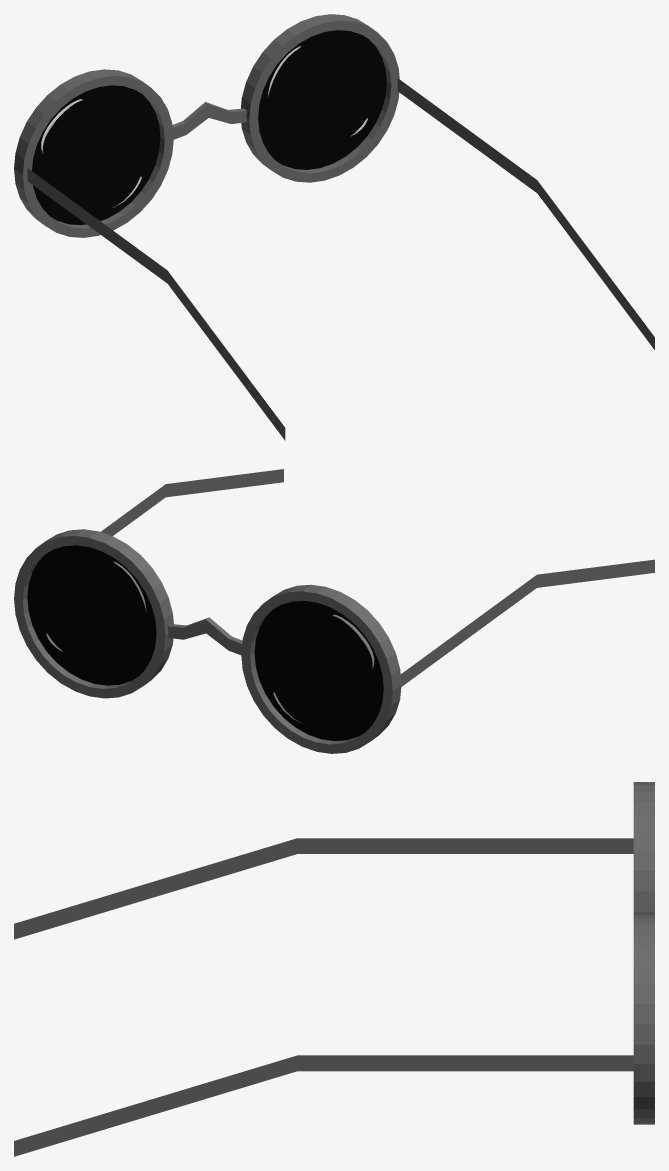
Rendered from glasses.glb.
3 renders of one model, top to bottom at view 1: azimuth 30°, elevation 25°; view 2: azimuth 150°, elevation 25°; view 3: azimuth 270°, elevation 25°, orthographic. The views are drawn at different scales.
Parts seen in each view (by area): view 1: Circle, Circle.001, Cylinder, Cylinder.001, Plane.001, Plane, Cube; view 2: Circle, Circle.001, Cylinder.001, Cylinder, Plane.001, Plane, Cube; view 3: Plane, Plane.001, Cylinder, Cylinder.001.
Boxes of the visible parts, bbox=[...] form: Circle: bbox=[258, 30, 386, 169]; Circle.001: bbox=[32, 85, 160, 225]; Cylinder: bbox=[241, 14, 399, 182]; Cylinder.001: bbox=[14, 69, 173, 237]; Plane.001: bbox=[27, 168, 285, 440]; Plane: bbox=[397, 78, 654, 349]; Cube: bbox=[172, 102, 246, 139]; Circle: bbox=[27, 545, 156, 685]; Circle.001: bbox=[254, 601, 383, 740]; Cylinder.001: bbox=[241, 584, 401, 753]; Cylinder: bbox=[14, 529, 173, 698]; Plane.001: bbox=[400, 559, 654, 686]; Plane: bbox=[101, 469, 283, 535]; Cube: bbox=[167, 617, 242, 654]; Plane: bbox=[14, 1055, 633, 1156]; Plane.001: bbox=[14, 838, 633, 939]; Cylinder: bbox=[633, 915, 654, 1124]; Cylinder.001: bbox=[633, 782, 654, 914].
Bounding box in the file's own units: 5 × 2 × 6.11.
2 materials, 2 textured.
